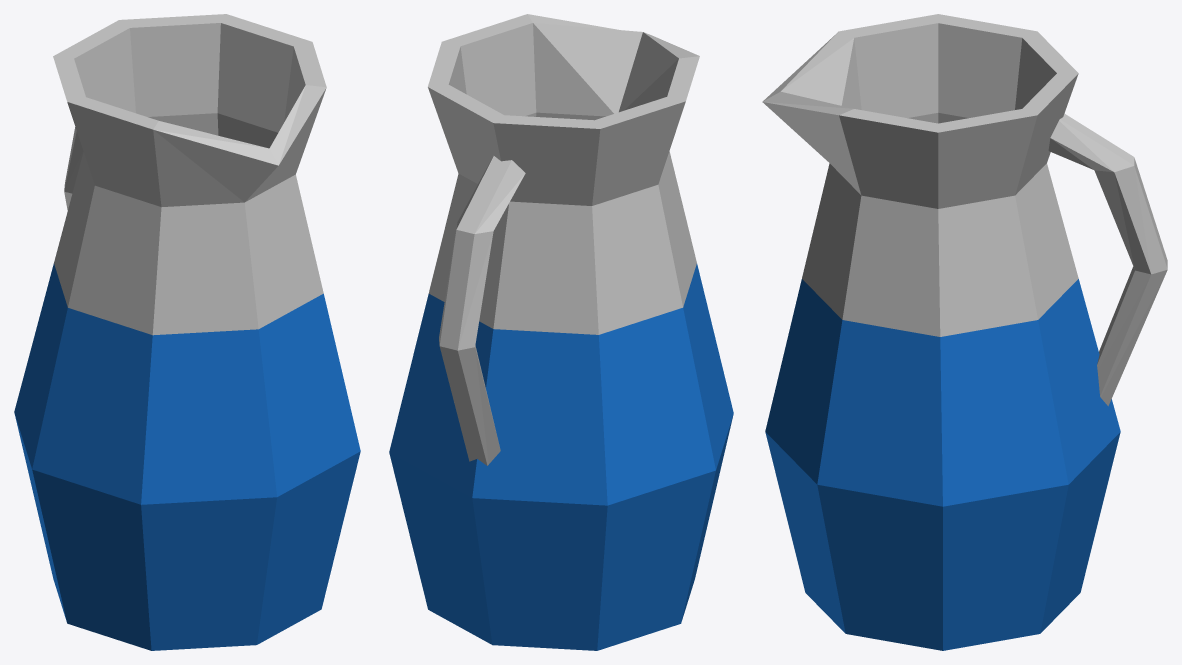
The model's file is SM_jug.fbx.
3 renders of one model, left to right at view 1: azimuth 30°, elevation 25°; view 2: azimuth 150°, elevation 25°; view 3: azimuth 270°, elevation 25°, orthographic.
Parts seen in each view (by area): view 1: Cylinder_13; view 2: Cylinder_13; view 3: Cylinder_13.
Part boxes in pixels (x1,y1,x2,y2): Cylinder_13: (14, 14, 360, 650); Cylinder_13: (389, 14, 733, 650); Cylinder_13: (762, 14, 1167, 650).
Bounding box in the file's own units: 15.01 × 24.19 × 17.12.
